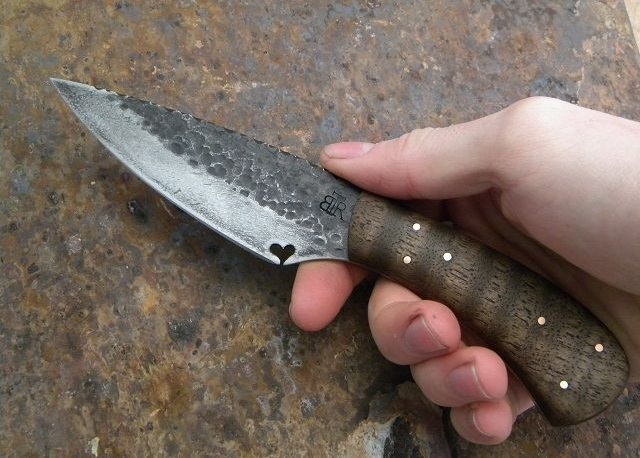knife: (33, 69, 525, 446)
